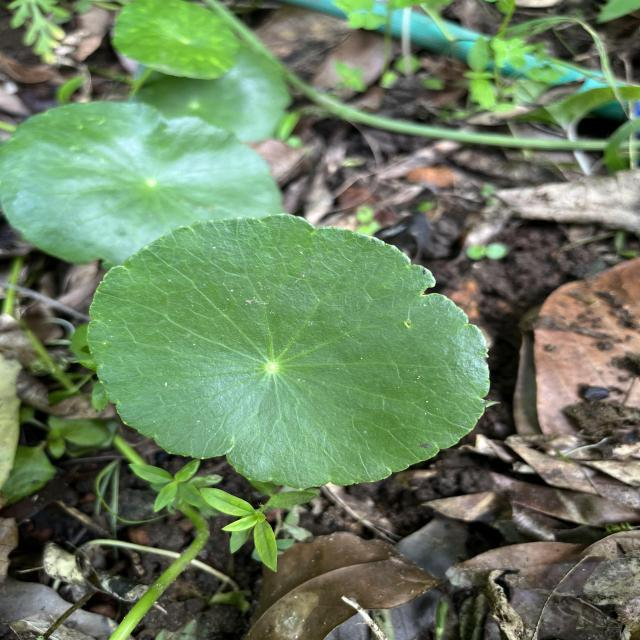Bacopa monnieri: (82, 209, 494, 491)
